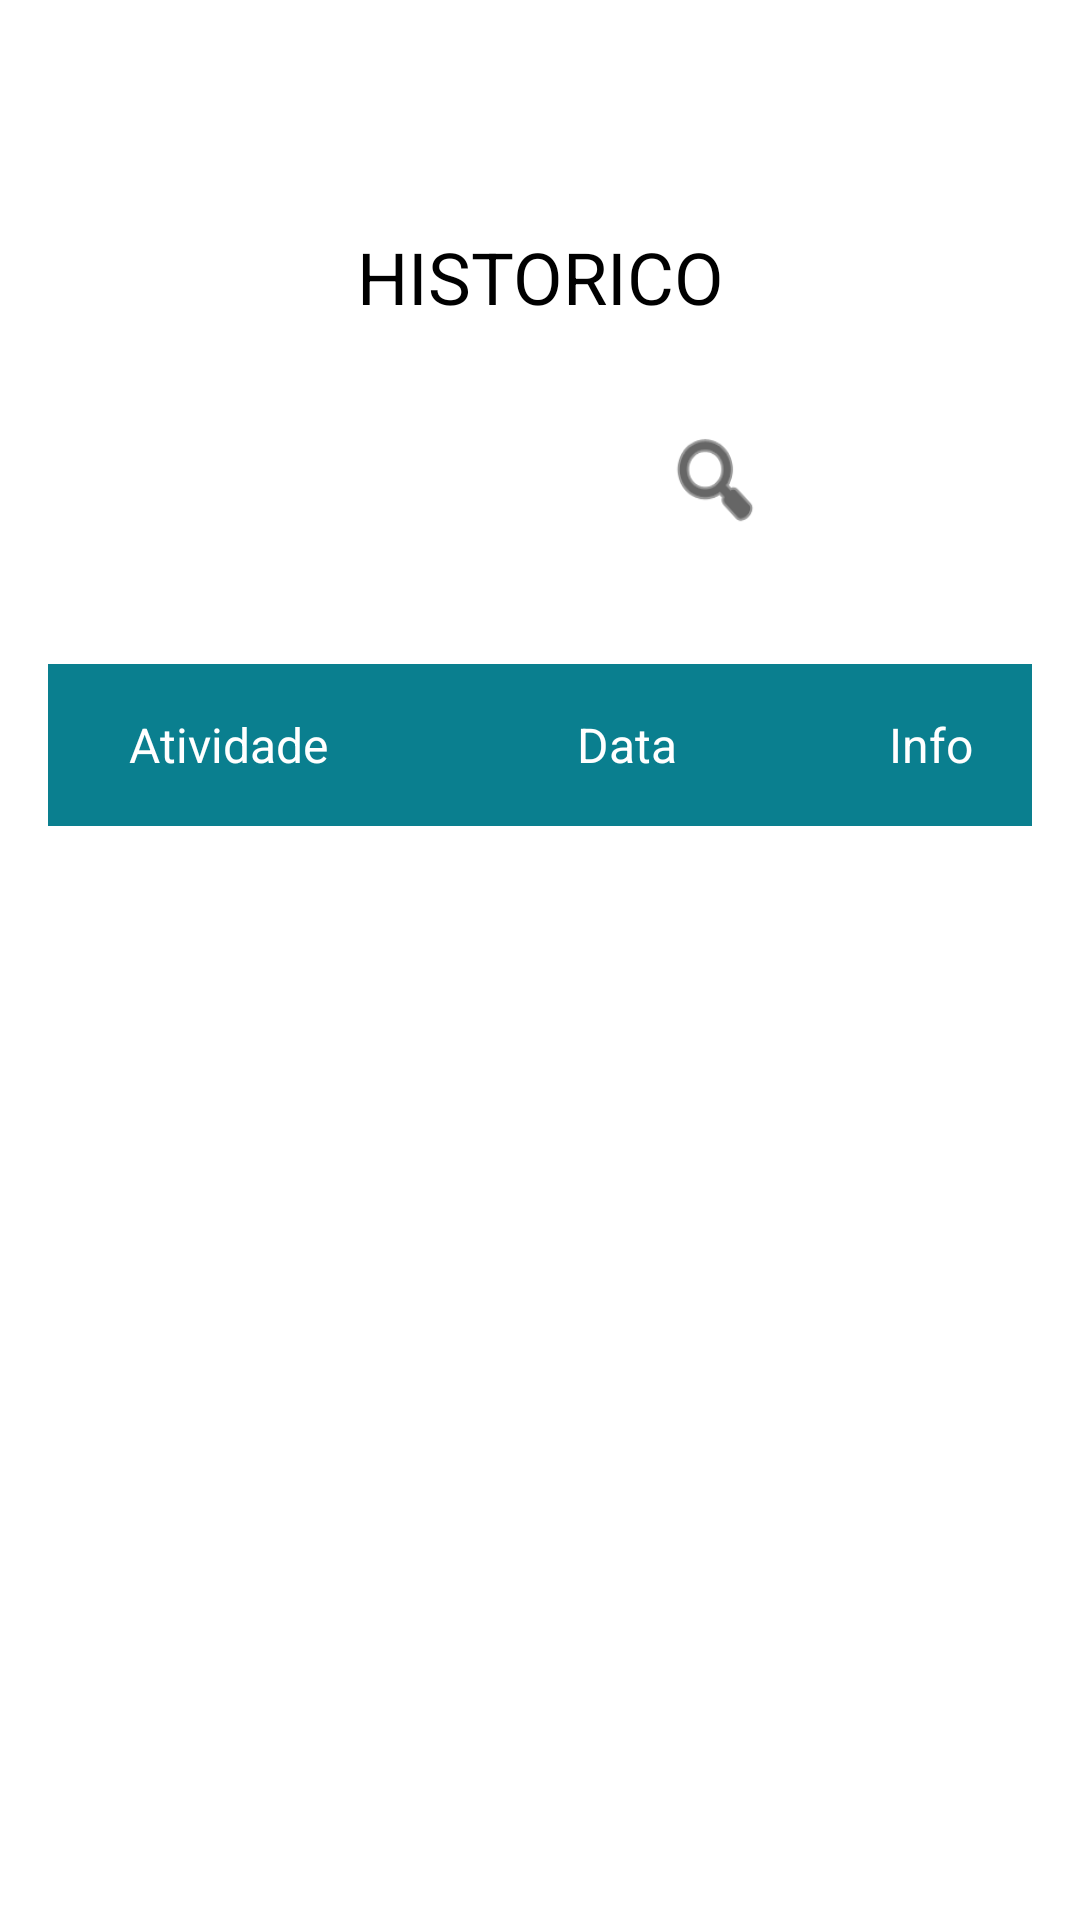

Where to tap for icons on this 1080px×1920px app screen, as (x,y):
search: (715,480)
